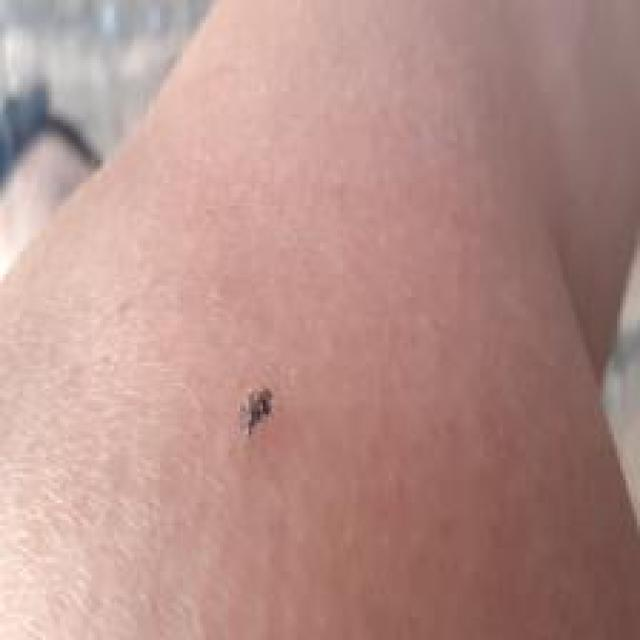Aedes albopictus: (237, 384, 274, 436)
